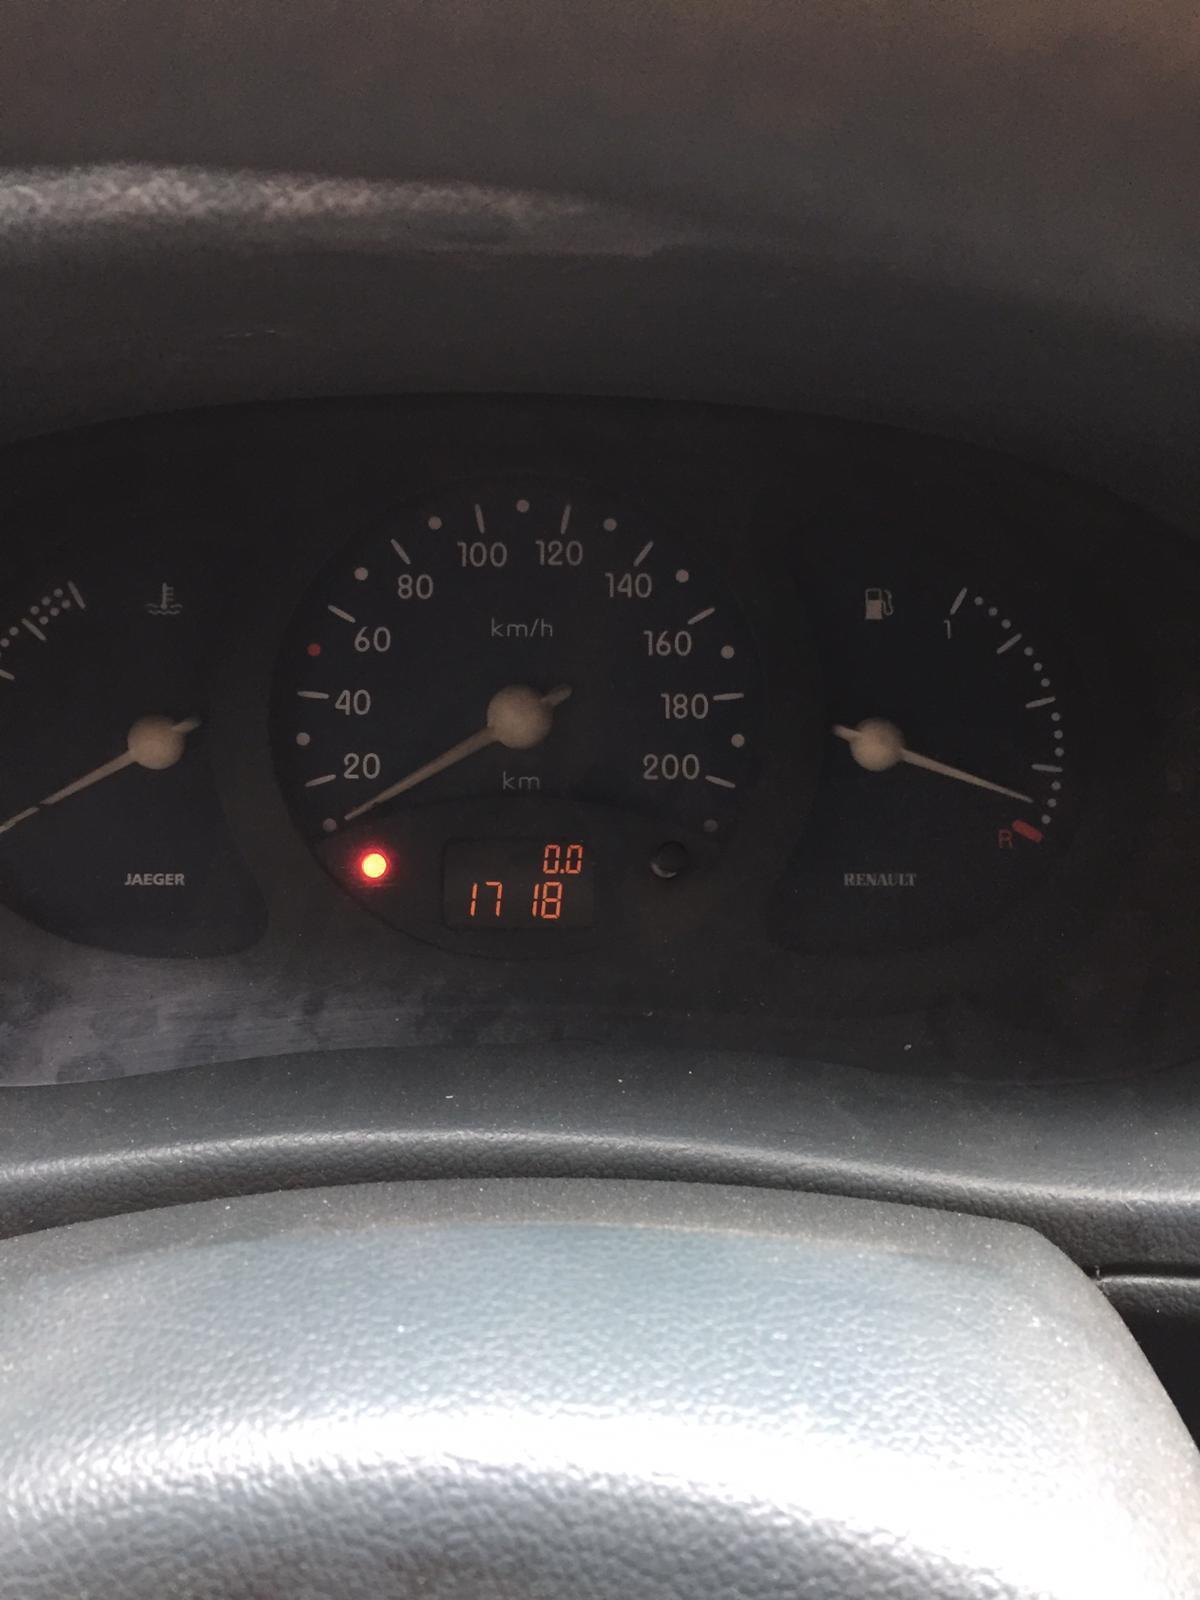,: (558, 868, 563, 874)
0: (565, 843, 584, 874), (542, 843, 560, 874)
1: (529, 882, 539, 917), (469, 881, 478, 917)
7: (484, 881, 502, 918)
8: (539, 881, 563, 918)
odometer: (437, 833, 599, 934)
